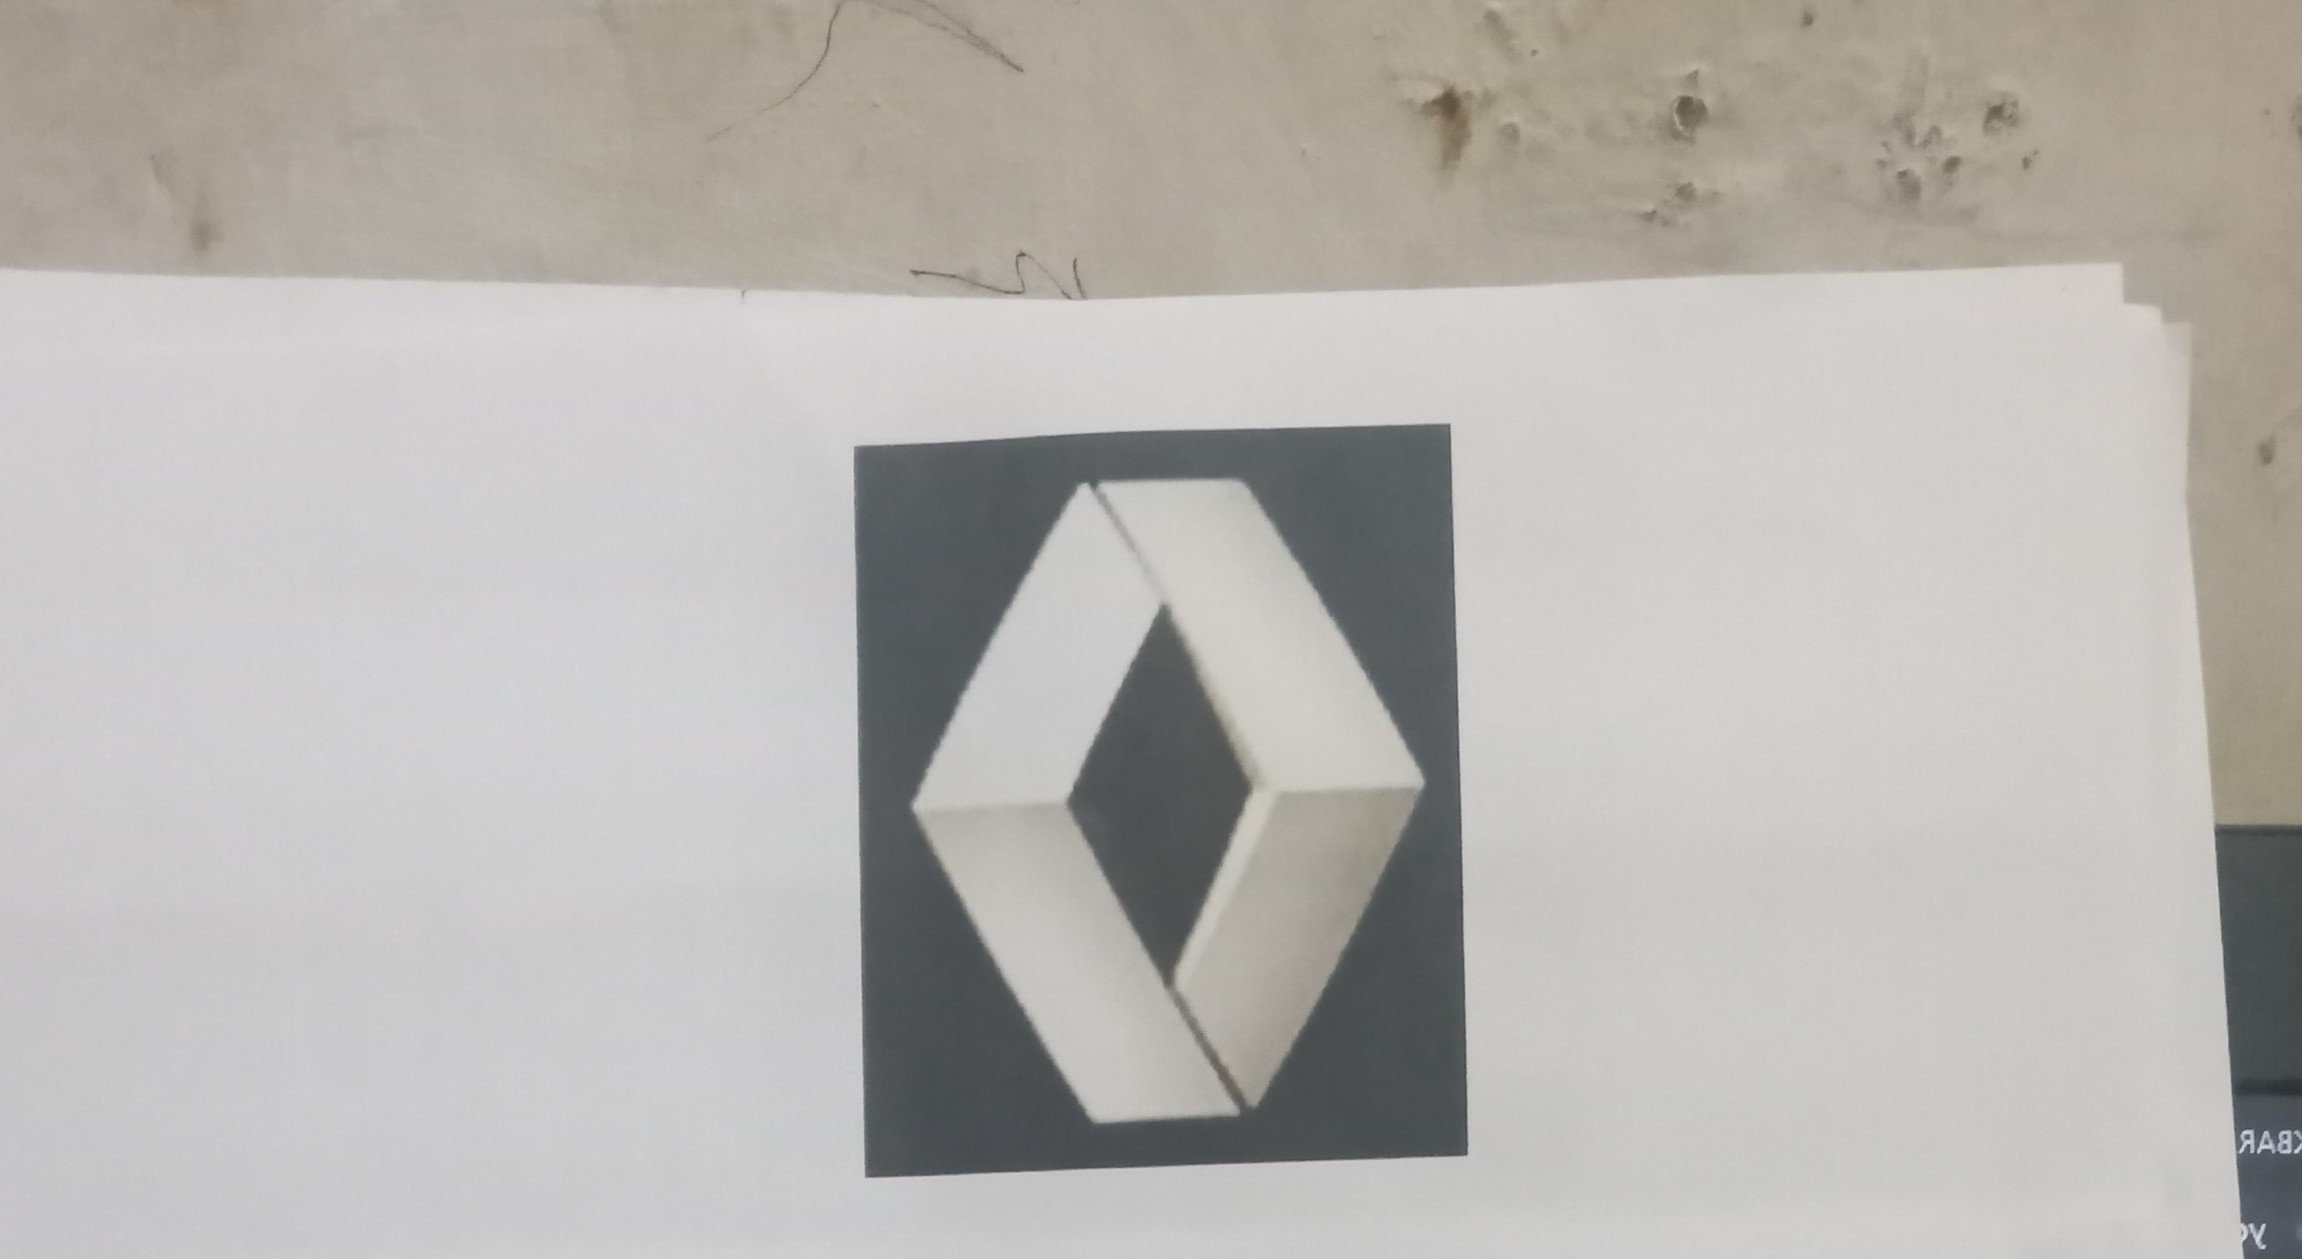Renault: (857, 454, 1446, 1157)
